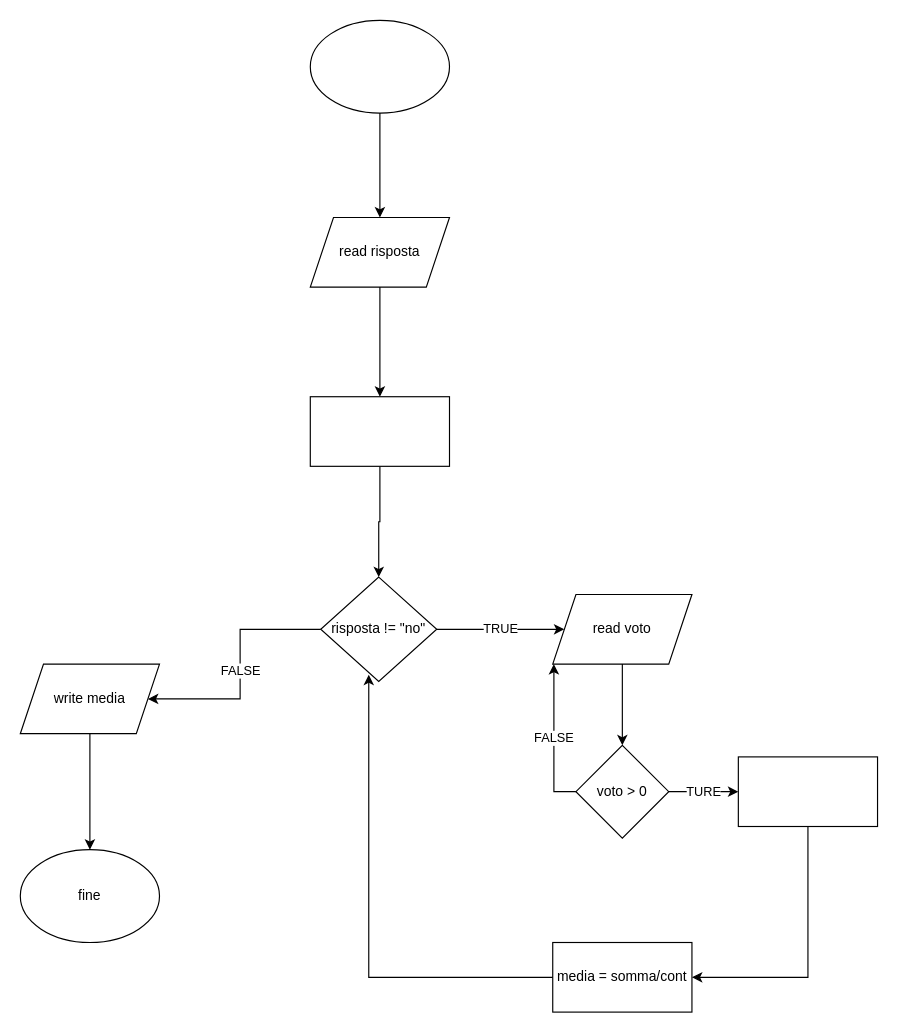
This 898x1032 diagram has some shape labels left out. The shapes that lost their labels are listed below. From the top down, each one's centre as x and y in pixels, then its label:
At (379,66): "inizio".
At (379,431): "cont = 0, media = 0, somma = 0".
At (807,791): "somma += voto, cont +=1".
